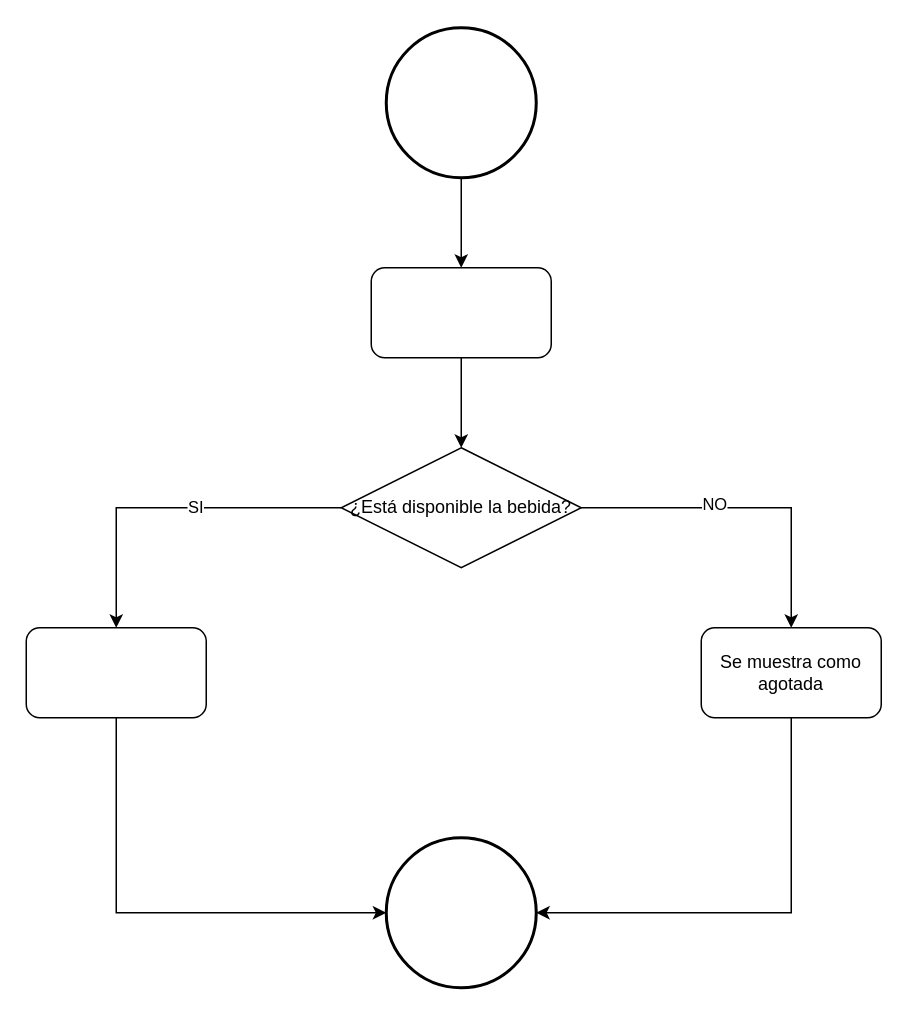
The diagram is 908 pixels wide and 1014 high, and some of its shapes have lost their labels. Each missing label, with the box of its shape:
Pulsamos sobre Bebidas: (370, 266, 551, 358)
Se muestra como disponible: (25, 626, 206, 718)
